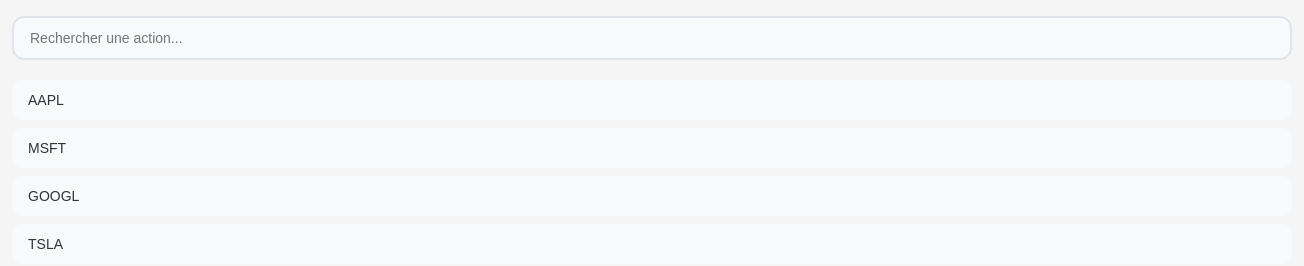
StockFilter › displays a message when no tickers match search
In the field with placeholder "Rechercher une action...": (652, 38) [12, 16, 1292, 60], type "XYZ"
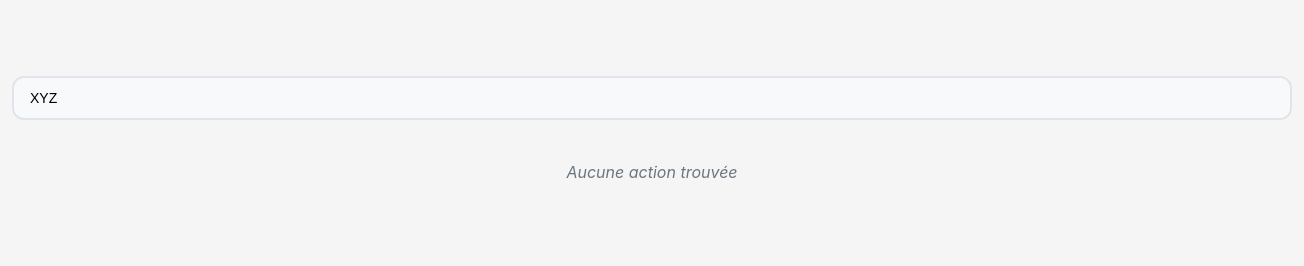
Expected: the text "Aucune action trouvée" is shown, [566, 162, 738, 182]
Expected: the button "AAPL" is gone
